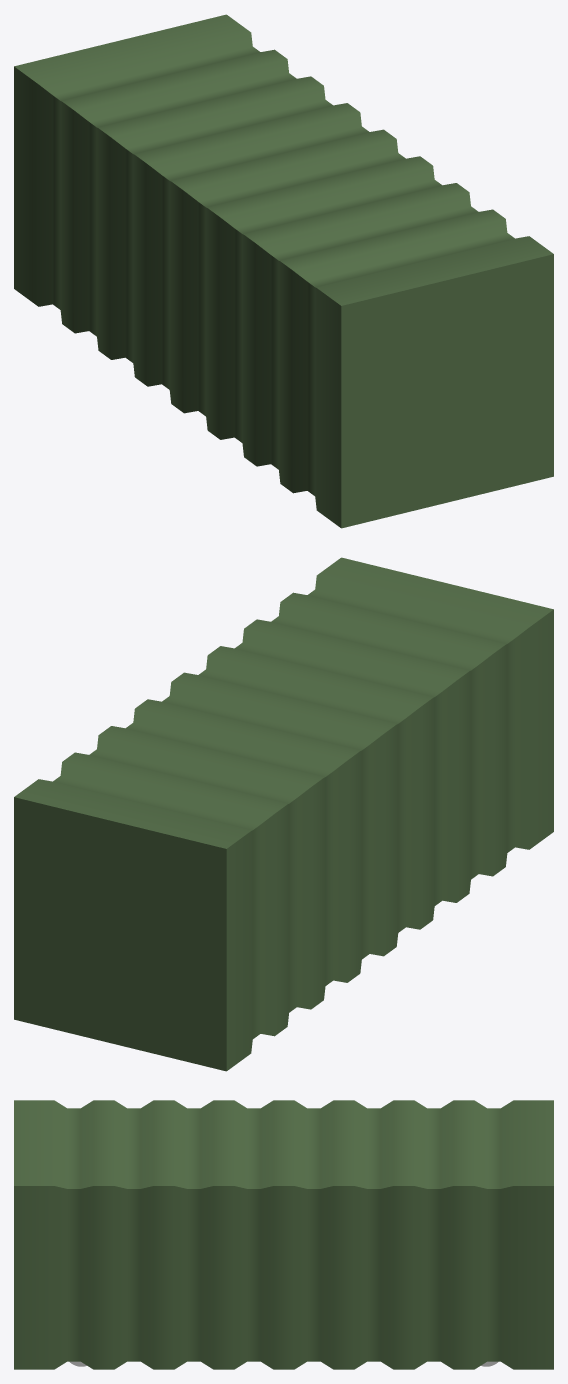
Rendered from Obstacle_01.fbx.
3 renders of one model, top to bottom at view 1: azimuth 30°, elevation 25°; view 2: azimuth 150°, elevation 25°; view 3: azimuth 270°, elevation 25°, orthographic. The views are drawn at different scales.
Visible parts, largest first — view 1: Obstacle_01; view 2: Obstacle_01; view 3: Obstacle_01.
Part boxes in pixels (<box>): Obstacle_01: <box>14,14,553,528</box>; Obstacle_01: <box>14,557,553,1071</box>; Obstacle_01: <box>14,1100,553,1369</box>.
Bounding box in the file's own units: 300 × 326 × 800.
